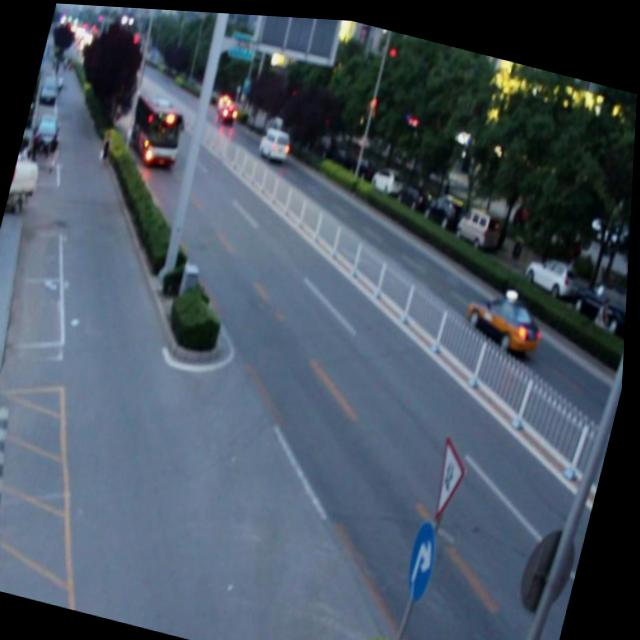car: (461, 277, 551, 353)
truck: (258, 121, 294, 161)
van: (125, 85, 191, 169)
